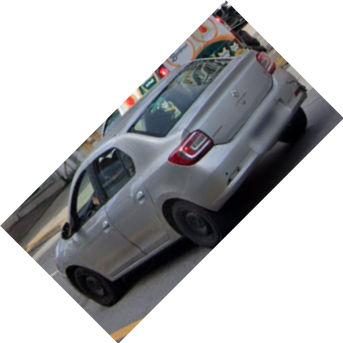car: (53, 50, 311, 307)
